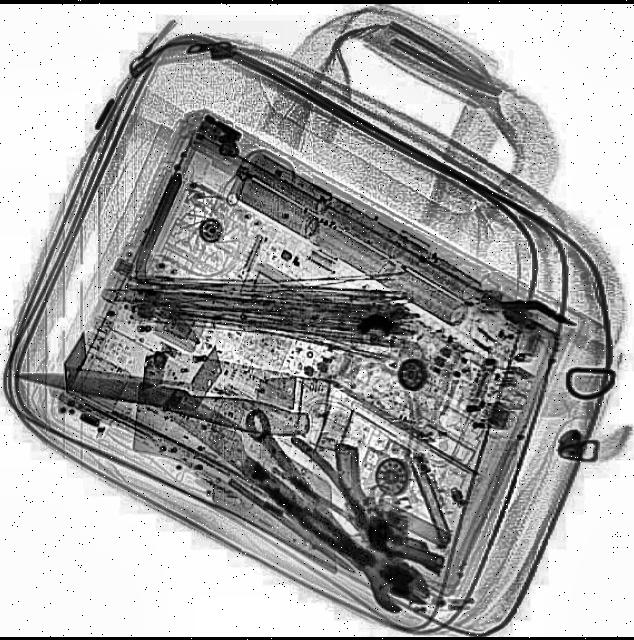Gun: (316, 442, 469, 574)
Knife: (132, 358, 378, 568), (18, 361, 314, 442)
Wrench: (234, 396, 435, 626)
